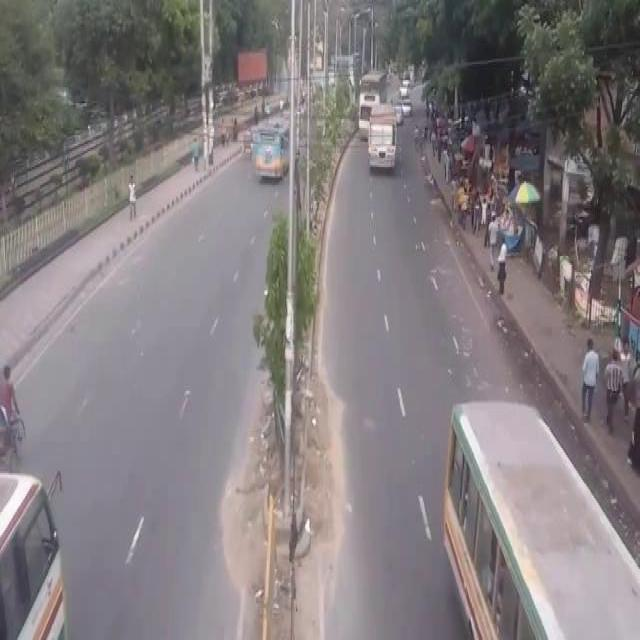bus: (438, 396, 638, 638), (251, 115, 293, 184), (357, 69, 387, 144), (368, 101, 397, 176)
rickshaw: (0, 357, 27, 473), (240, 128, 252, 160)
